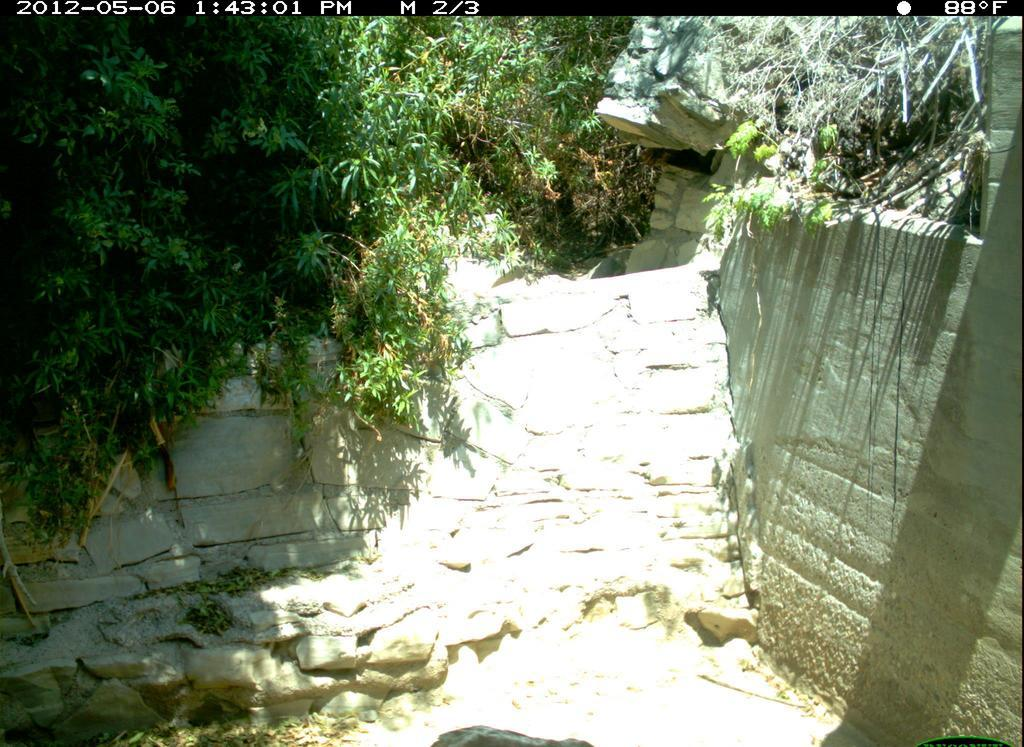cat: (422, 721, 648, 747)
